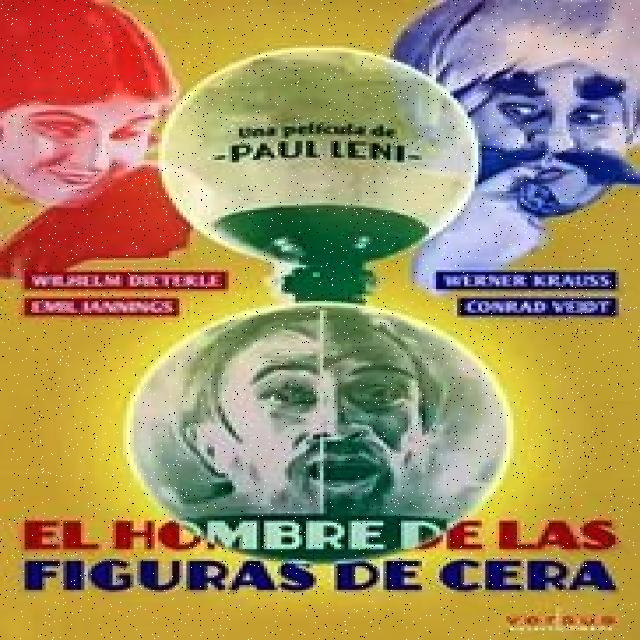movie-judul: (17, 516, 620, 602)
picture: (395, 1, 640, 265), (184, 303, 431, 519), (2, 0, 200, 269)
